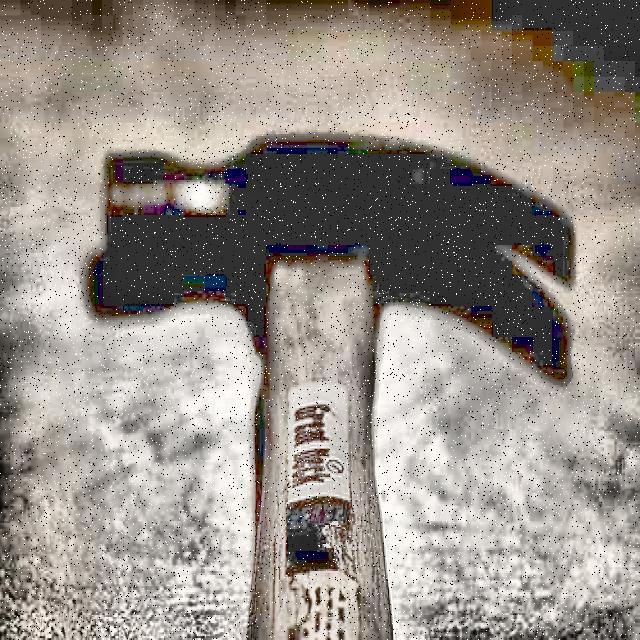hammer: (100, 131, 576, 640)
